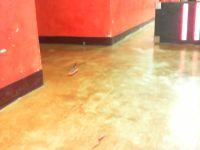switch: (193, 2, 200, 41), (181, 3, 188, 41)
